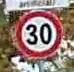limite 30: (13, 8, 63, 59)
